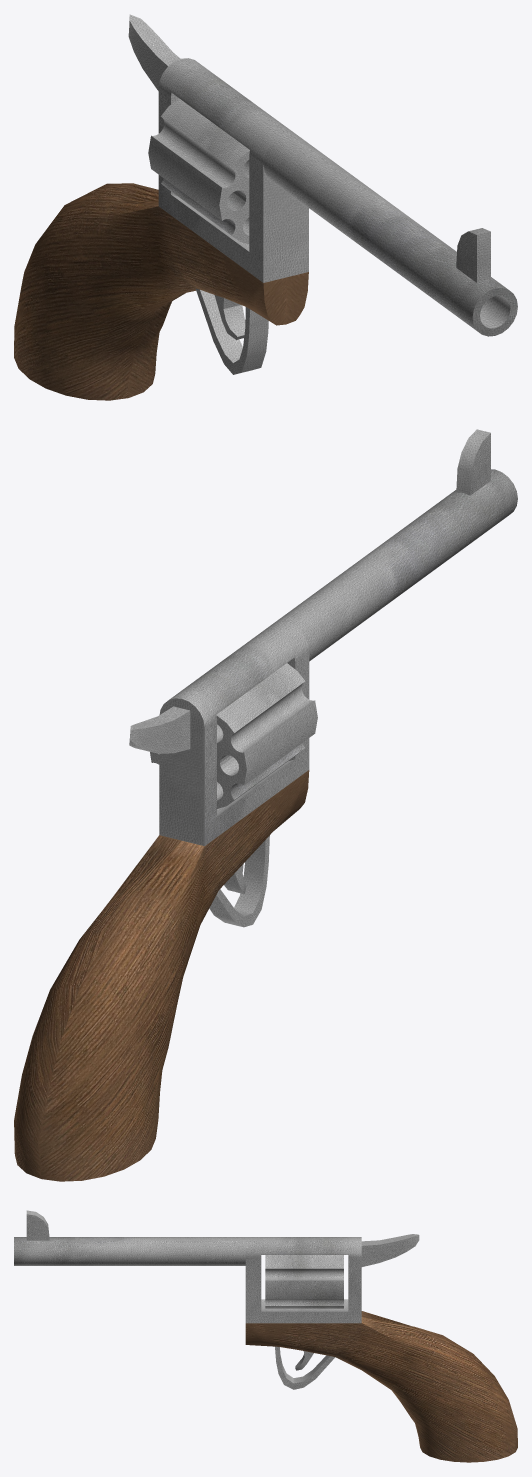
The model's file is pistola.fbx.
The picture shows the model from 3 angles, top to bottom: view 1: azimuth 30°, elevation 25°; view 2: azimuth 150°, elevation 25°; view 3: azimuth 270°, elevation 25°; orthographic projection. The views are drawn at different scales.
Parts seen in each view (by area): view 1: Pistola; view 2: Pistola; view 3: Pistola.
Boxes of the visible parts, x1,y1,x2,y2 form: Pistola: (14,14,517,400); Pistola: (14,429,517,1181); Pistola: (14,1210,517,1462).
Size of the model in its own units: 1.47 by 5.31 by 10.3.
Materials: 1 (1 with a texture image).
